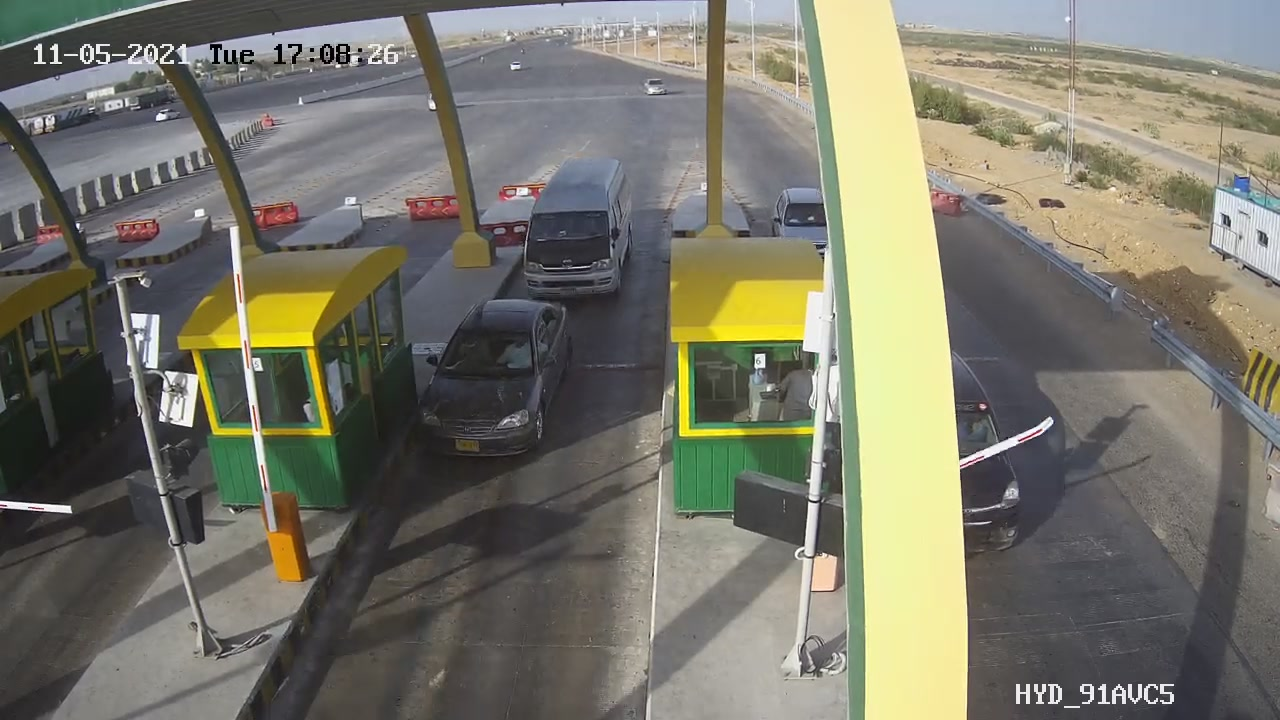F1: (396, 287, 589, 481)
